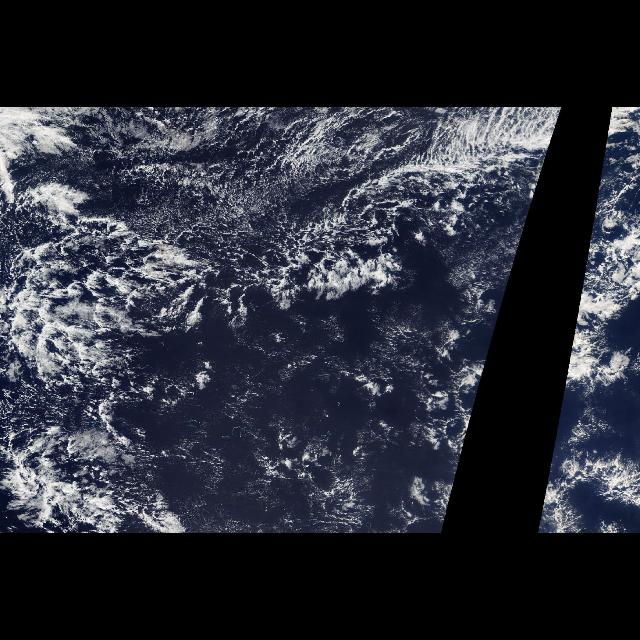Fish: (266, 109, 564, 308)
Gravel: (0, 124, 446, 526)
Sugar: (128, 136, 294, 252)
